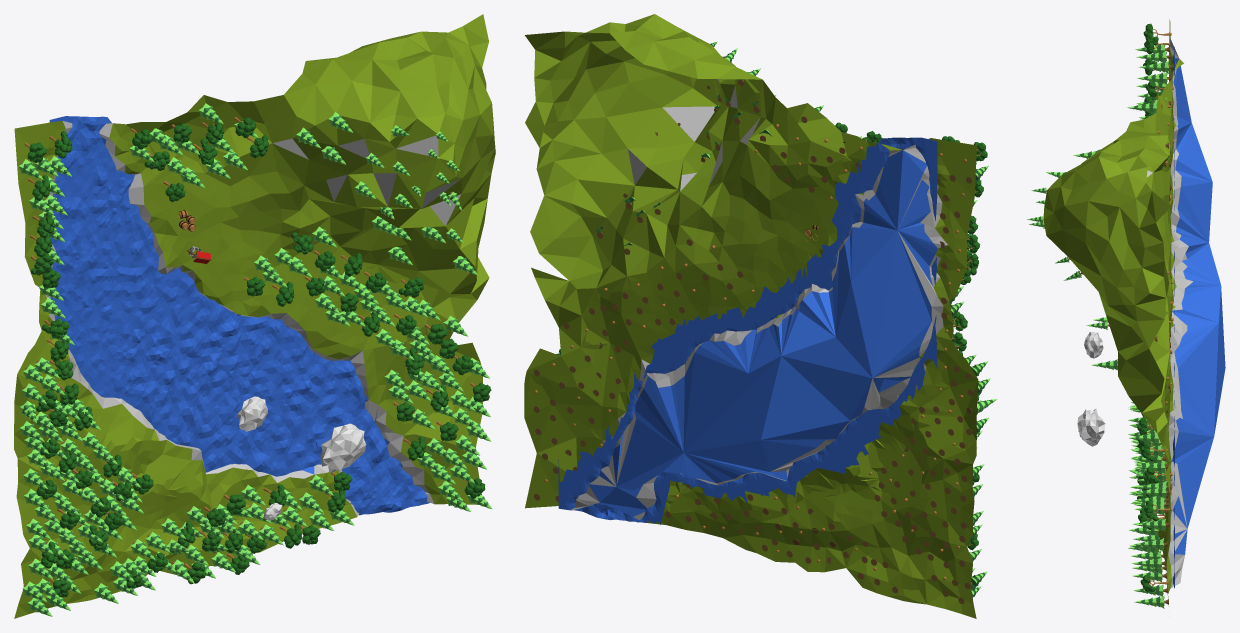
File: Low_Poly_Forest.gltf
3 renders of one model, left to right at view 1: azimuth 30°, elevation 25°; view 2: azimuth 150°, elevation 25°; view 3: azimuth 270°, elevation 25°, orthographic. The views are drawn at different scales.
Visible parts, largest first — view 1: Ground, Lake, cloud; view 2: Ground, Lake; view 3: Ground, cloud, Lake.
Boxes of the visible parts, x1,y1,x2,y2 form: Ground: [14, 14, 495, 618]; Lake: [49, 116, 429, 515]; cloud: [237, 396, 366, 520]; Ground: [524, 14, 978, 618]; Lake: [558, 137, 937, 524]; Ground: [1043, 19, 1225, 606]; cloud: [1077, 332, 1105, 446]; Lake: [1172, 47, 1174, 588].
Size of the model in its own units: 9.39 by 9.65 by 4.11.
